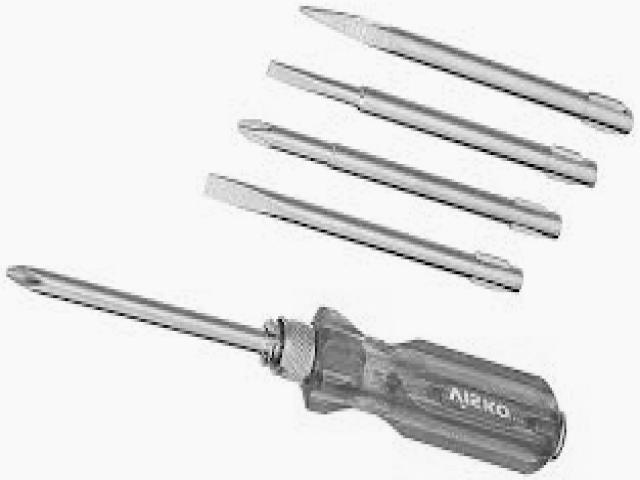Screwdriver: (6, 268, 565, 475)
